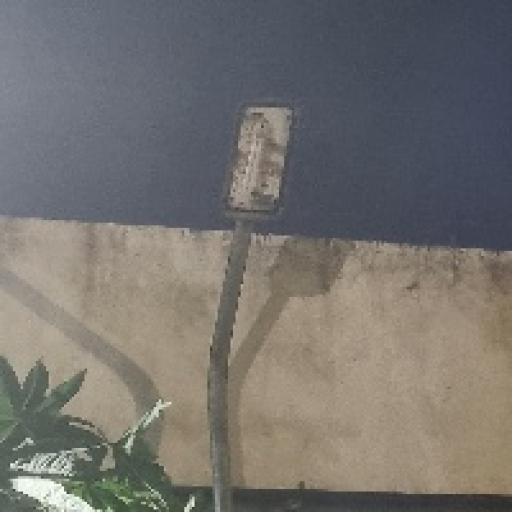Not Working: (200, 79, 314, 248)
